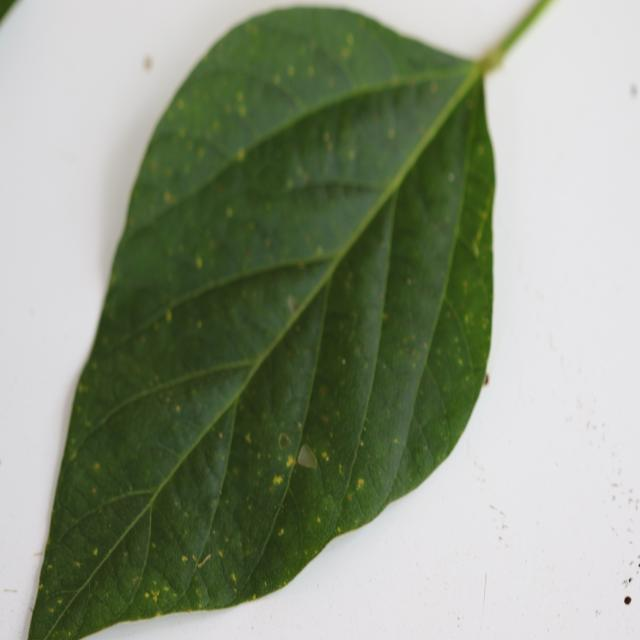Soybean: (7, 2, 548, 640)
downey_mildew: (88, 396, 274, 600), (157, 89, 296, 247), (276, 410, 359, 522), (239, 414, 305, 502), (373, 294, 434, 388), (112, 557, 203, 618), (279, 420, 326, 510), (145, 586, 161, 603), (272, 471, 285, 487), (285, 454, 295, 469), (165, 191, 175, 204), (78, 382, 88, 393), (238, 105, 246, 117), (165, 309, 172, 322), (195, 256, 202, 269), (244, 432, 252, 443), (357, 477, 364, 488), (93, 462, 100, 472), (321, 451, 328, 460)
